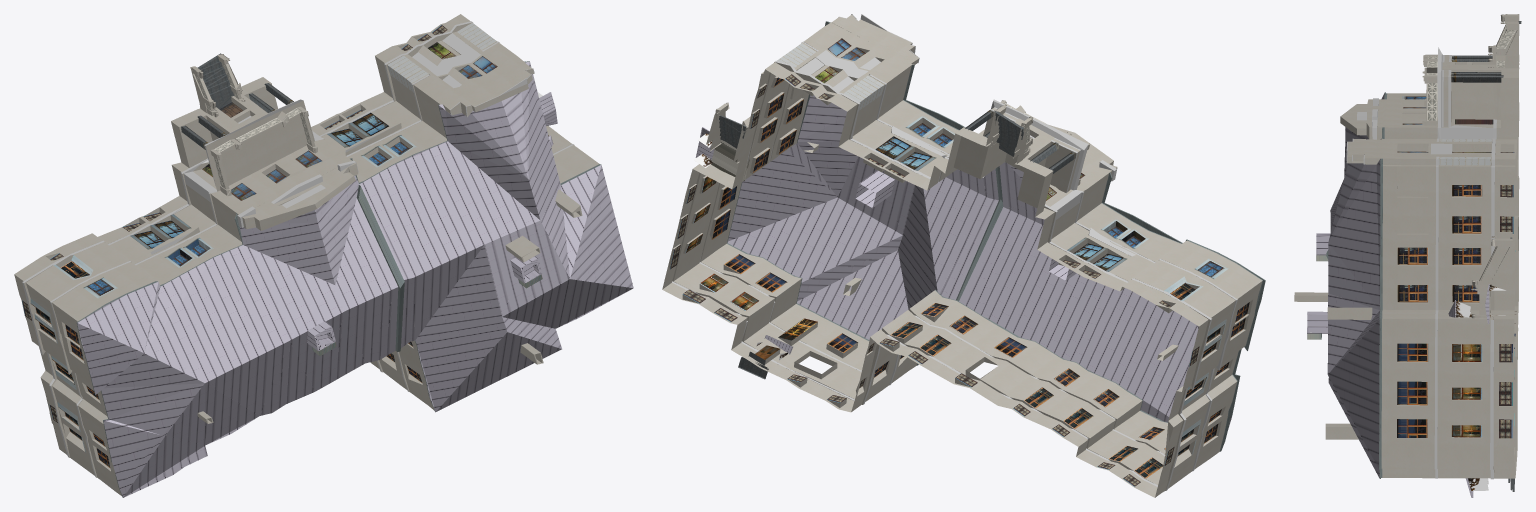
The model's file is Wismari7-origo.obj.
The picture shows the model from 3 angles, left to right: view 1: azimuth 30°, elevation 25°; view 2: azimuth 150°, elevation 25°; view 3: azimuth 270°, elevation 25°; orthographic projection. The views are drawn at different scales.
Visible parts, largest first — view 1: W7_MainBuilding; view 2: W7_MainBuilding; view 3: W7_MainBuilding.
Boxes of the visible parts, x1=… form: W7_MainBuilding: x1=14, y1=14, x2=633, y2=497; W7_MainBuilding: x1=662, y1=14, x2=1265, y2=497; W7_MainBuilding: x1=1294, y1=14, x2=1521, y2=497.
Size of the model in its own units: 53.06 by 32.5 by 18.4.
